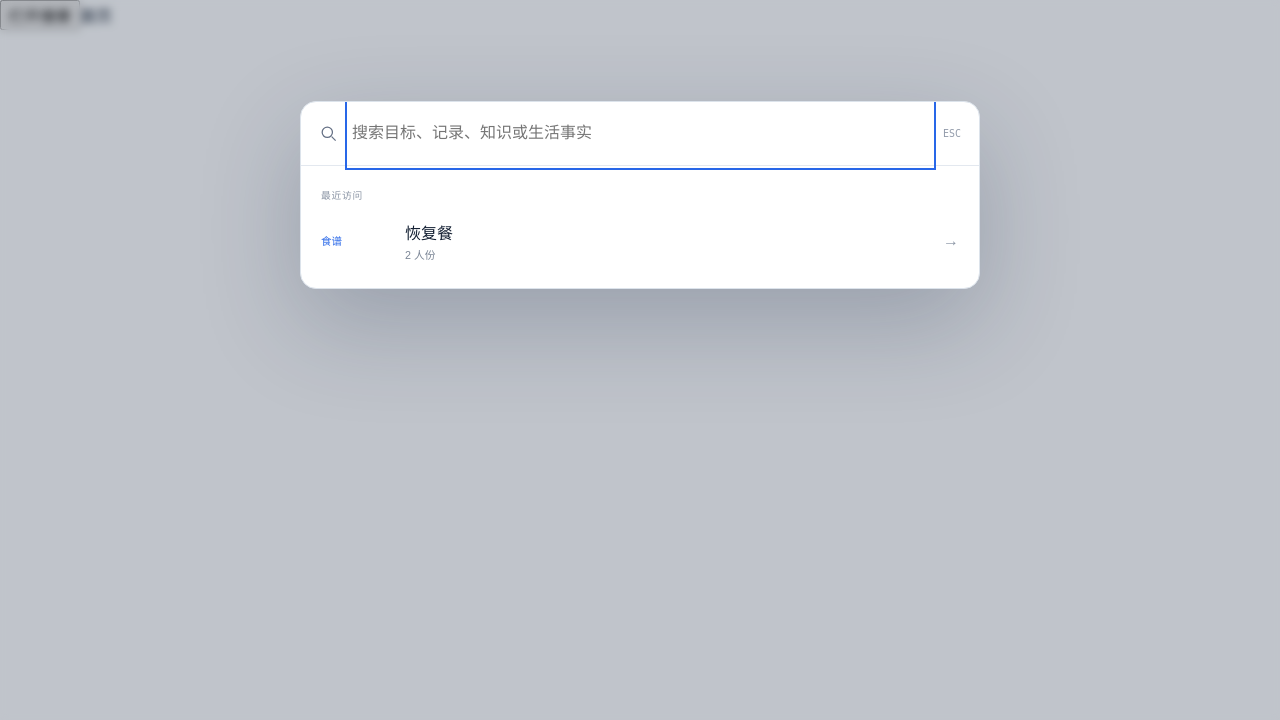
Test: CommandCenter › shows recent destinations before searching and groups remote results by domain
Expected: the heading "最近访问" is shown, [321,190,363,201]
Expected: the link "食谱 恢复餐 2 人份 →" is shown, [321,225,959,261]
Type "平台" into the search field named "搜索 LifeOps" at [641, 133], box [350,102,931,165]
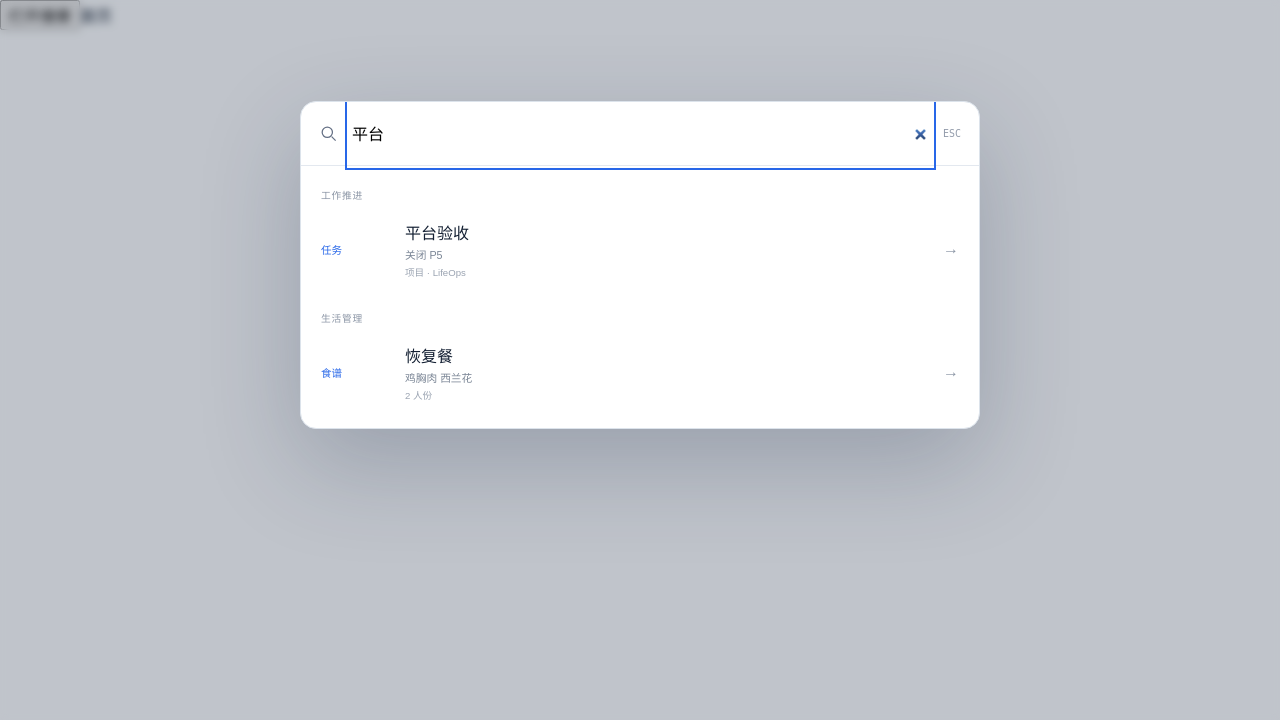
Expected: the option "任务 平台验收 关闭 P5 项目 · LifeOps →" is shown, [309,207,971,292]
Expected: the option "食谱 恢复餐 鸡胸肉 西兰花 2 人份 →" is shown, [309,330,971,415]
